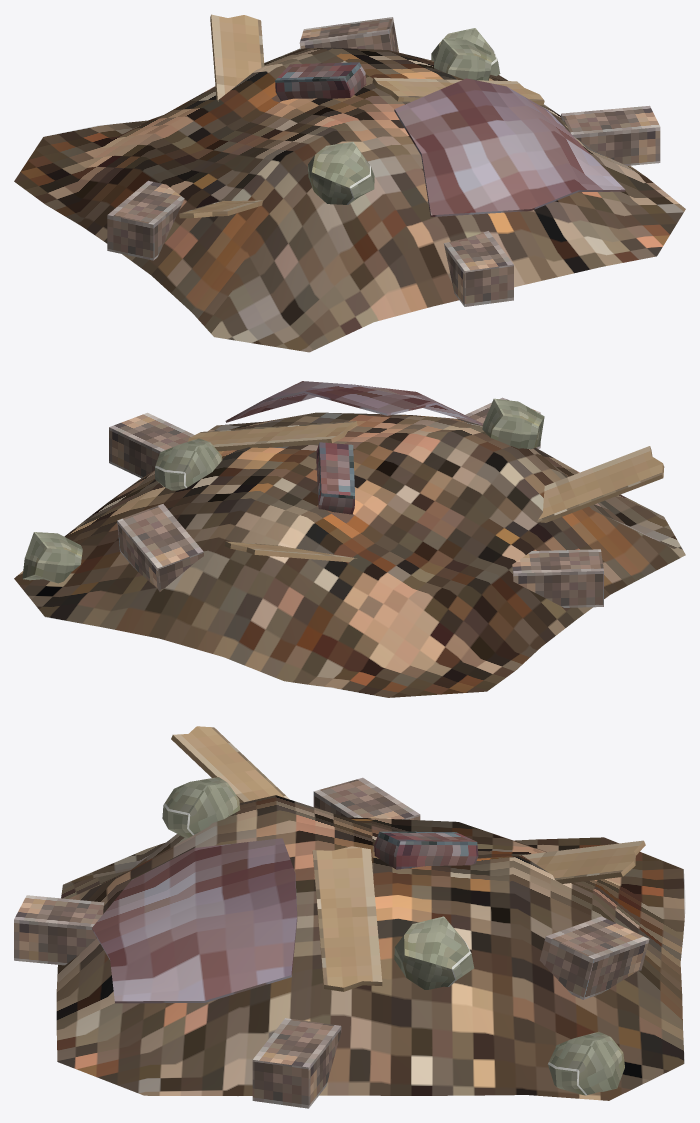
The model's file is Bsura_01.fbx.
The picture shows the model from 3 angles, top to bottom: view 1: azimuth 30°, elevation 25°; view 2: azimuth 150°, elevation 25°; view 3: azimuth 270°, elevation 25°; orthographic projection. The views are drawn at different scales.
Parts seen in each view (by area): view 1: Plane.003; view 2: Plane.003; view 3: Plane.003.
Part boxes in pixels (<box>): Plane.003: <box>14,14,685,352</box>; Plane.003: <box>14,381,685,697</box>; Plane.003: <box>14,726,685,1108</box>.
Size of the model in its own units: 359 by 91.38 by 351.
Materials: 1 (1 with a texture image).
